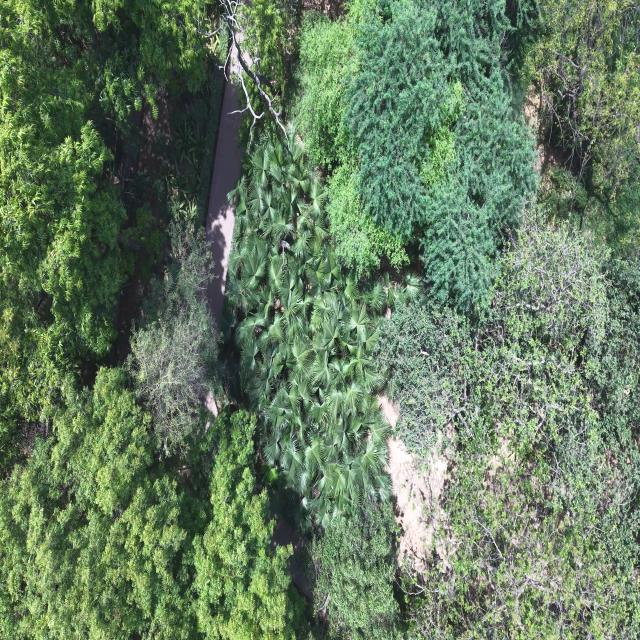DRY_AREA: (205, 60, 242, 323), (205, 78, 242, 323), (205, 78, 242, 322), (386, 438, 446, 572)
VEGETATION_TREE: (0, 0, 639, 639), (290, 2, 639, 638), (0, 225, 304, 638), (377, 212, 639, 638), (1, 2, 218, 461), (0, 0, 216, 456), (0, 369, 303, 639), (293, 0, 534, 314), (226, 128, 388, 525), (343, 0, 534, 313), (0, 3, 125, 448), (0, 36, 125, 449), (291, 3, 407, 277), (517, 0, 639, 253), (342, 0, 464, 239), (1, 0, 217, 129), (193, 412, 304, 639), (522, 0, 639, 200), (127, 224, 220, 455), (47, 0, 217, 122), (372, 300, 473, 457), (206, 0, 296, 147), (309, 502, 399, 639), (289, 13, 353, 168), (537, 163, 639, 259), (231, 0, 297, 146), (326, 165, 407, 275), (195, 65, 225, 227), (242, 0, 291, 97)
